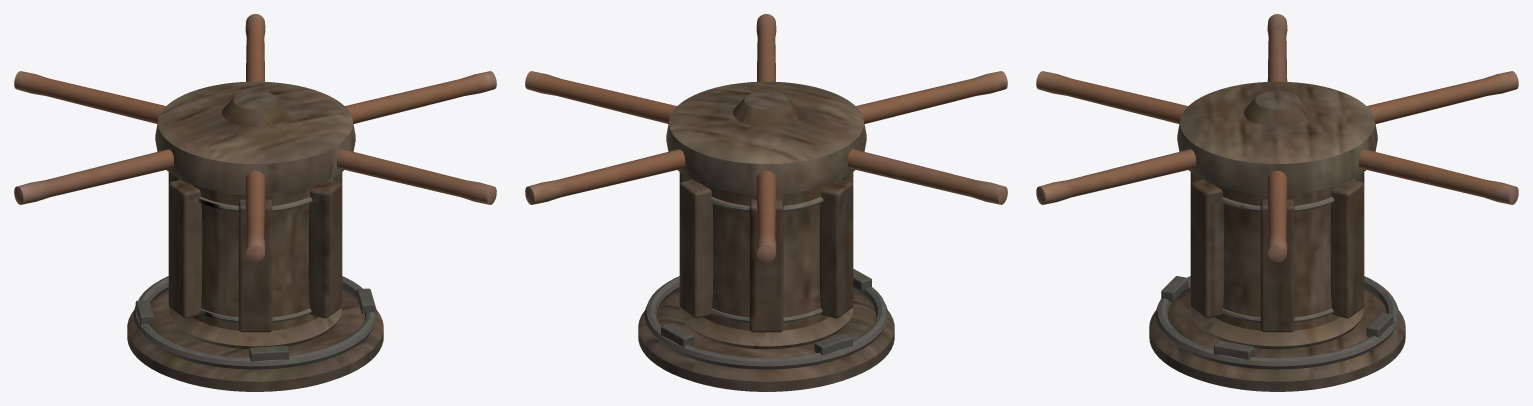
The model's file is capstan.glb.
3 views of the same model, side by side, from view 1: azimuth 30°, elevation 25°; view 2: azimuth 150°, elevation 25°; view 3: azimuth 270°, elevation 25° (orthographic).
Visible parts, largest first — view 1: drum, capstan_body; view 2: drum, capstan_body; view 3: drum, capstan_body.
Part boxes in pixels (x1,y1,x2,y2): drum: (14, 14, 496, 348); capstan_body: (127, 276, 383, 391); drum: (525, 14, 1007, 349); capstan_body: (638, 269, 894, 391); drum: (1036, 14, 1518, 349); capstan_body: (1149, 276, 1405, 391).
Size of the model in its own units: 1.98 by 0.96 by 1.73.
Materials: 1 (1 with a texture image).
